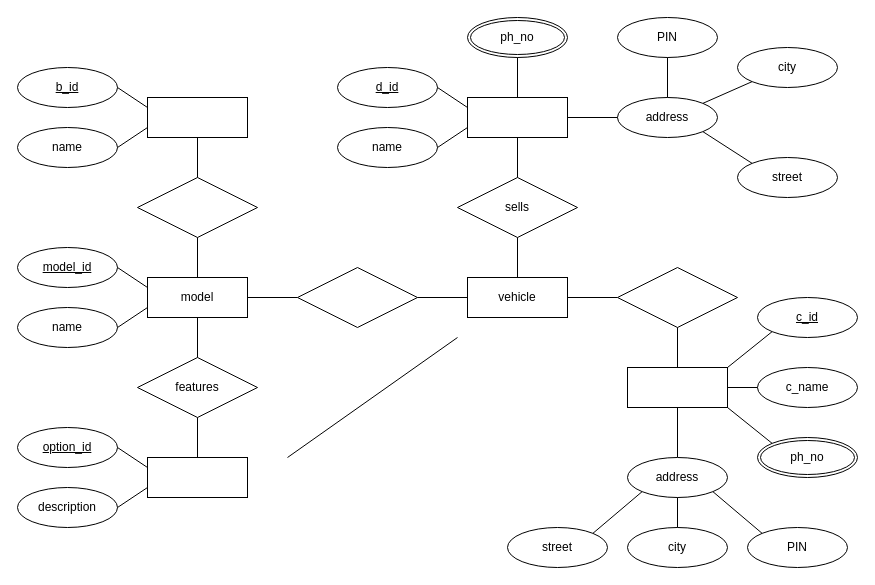
Some shapes in this 875 by 585 pixel diagram are drawn without their labels. Each missing label, with the centre of its shape:
"brand" belongs at [197,117].
"buys" belongs at [677,297].
"creates" belongs at [197,207].
"customer" belongs at [677,387].
"dealer" belongs at [517,117].
"has" belongs at [357,297].
"options" belongs at [197,477].
